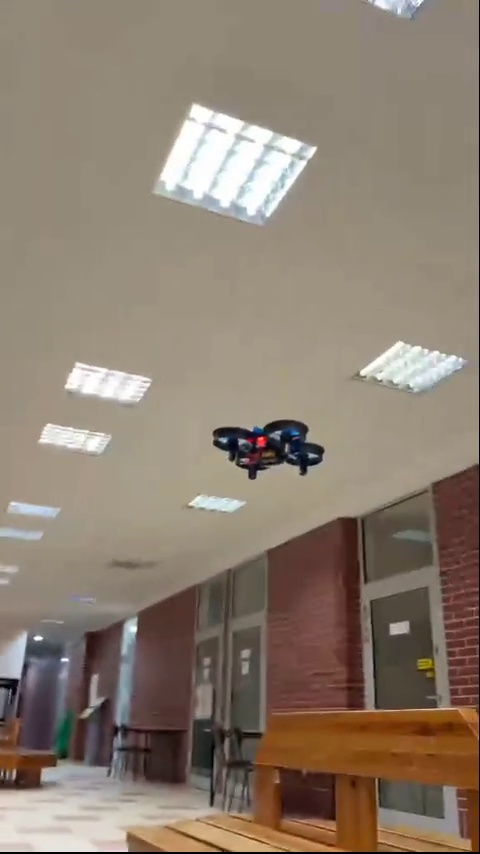drone: (209, 411, 324, 472)
